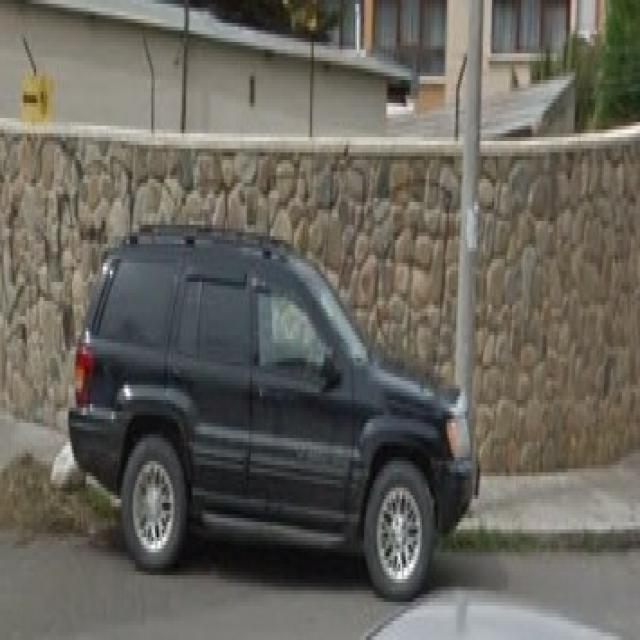car: (62, 211, 476, 598)
